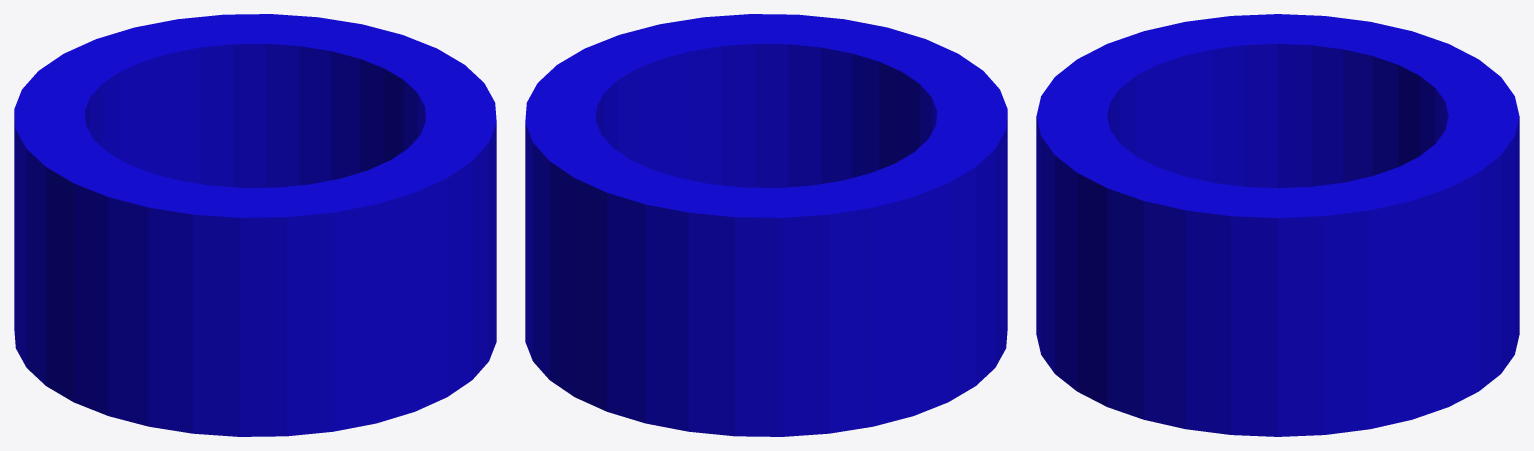
The picture shows the model from 3 angles, left to right: view 1: azimuth 30°, elevation 25°; view 2: azimuth 150°, elevation 25°; view 3: azimuth 270°, elevation 25°; orthographic projection.
Parts seen in each view (by area): view 1: Circle; view 2: Circle; view 3: Circle.
Boxes of the visible parts, x1,y1,x2,y2 form: Circle: (14, 14, 496, 436); Circle: (525, 14, 1007, 436); Circle: (1036, 14, 1519, 436).
Bounding box in the file's own units: 0.2 × 0.1 × 0.2.
